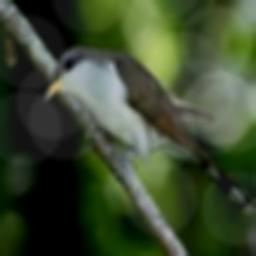Cuckoo: (43, 45, 256, 217)
